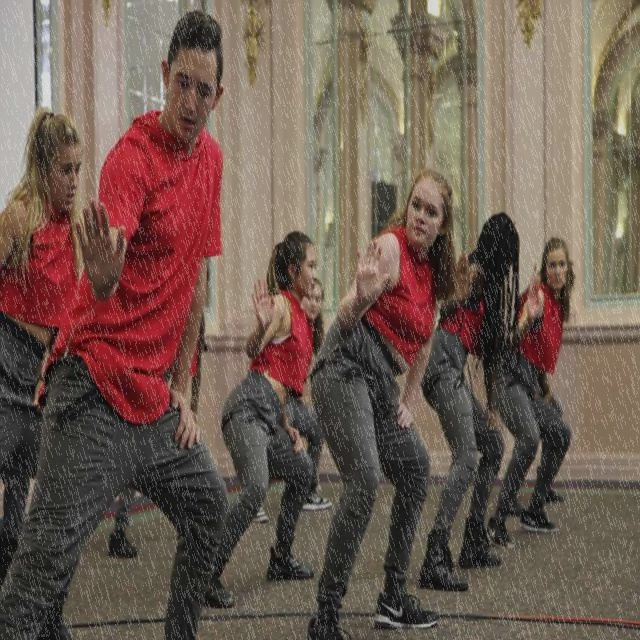pessoa: (0, 8, 233, 639), (302, 166, 456, 639), (0, 100, 91, 639), (199, 230, 319, 628), (414, 209, 520, 595), (484, 234, 572, 550), (248, 276, 334, 525), (516, 257, 578, 505), (110, 359, 174, 558)
